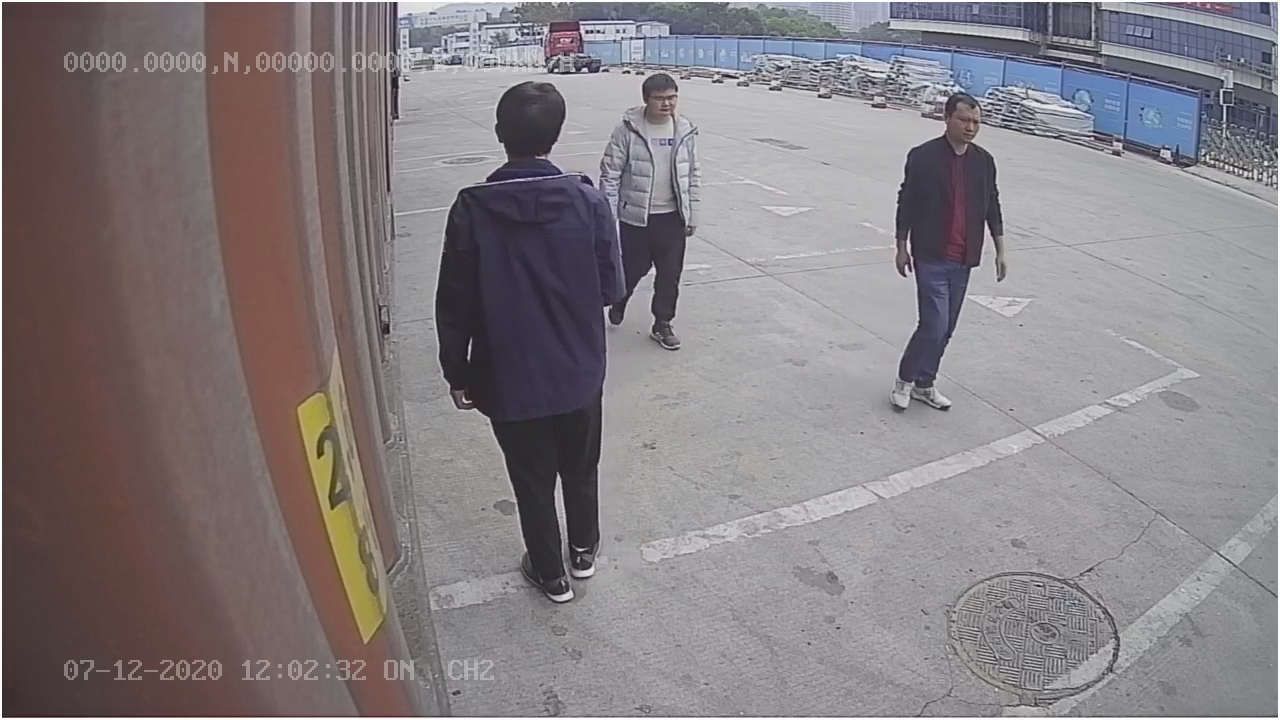person: (427, 74, 641, 613), (890, 83, 1007, 422)
